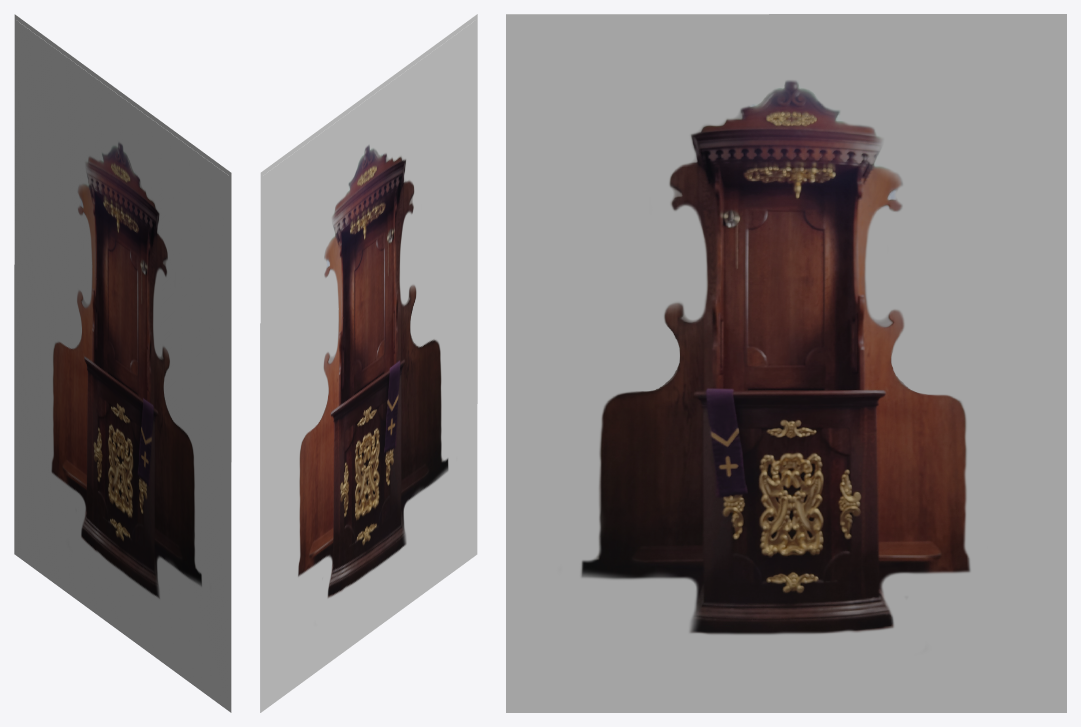
File: 2-3 - Konfesjonał.glb
The picture shows the model from 3 angles, left to right: view 1: azimuth 30°, elevation 25°; view 2: azimuth 150°, elevation 25°; view 3: azimuth 270°, elevation 25°; orthographic projection. The views are drawn at different scales.
Parts seen in each view (by area): view 1: Plane; view 2: Plane; view 3: Plane.
Part boxes in pixels (left/top/right/bottom): Plane: left=14, top=14, right=231, bottom=712; Plane: left=260, top=14, right=477, bottom=712; Plane: left=506, top=14, right=1066, bottom=712.
Size of the model in its own units: 0.0246 by 22 by 16.
Materials: 1 (1 with a texture image).
